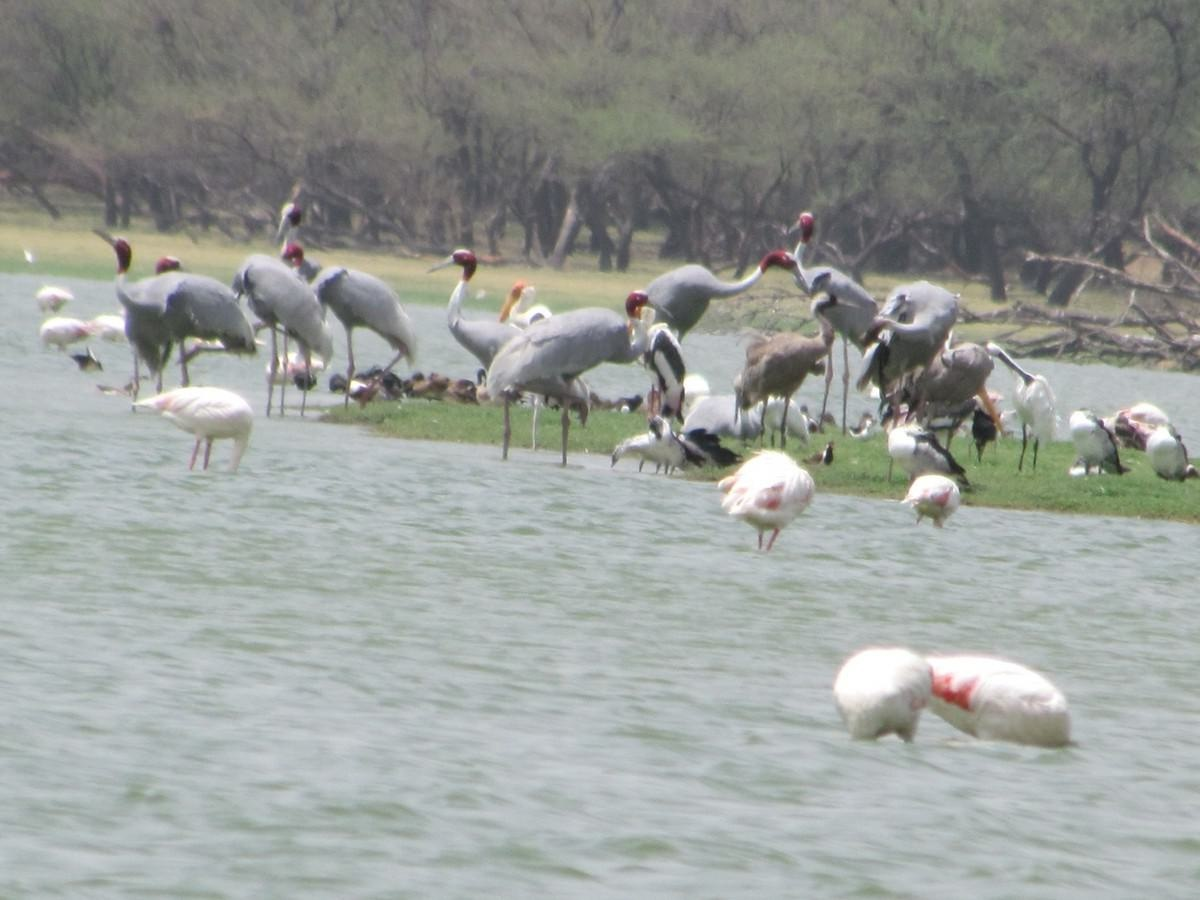crane: (81, 217, 254, 408), (503, 292, 657, 476), (648, 246, 796, 436), (289, 233, 415, 417), (786, 205, 873, 438), (425, 242, 525, 437), (854, 281, 968, 450), (740, 293, 851, 456)
